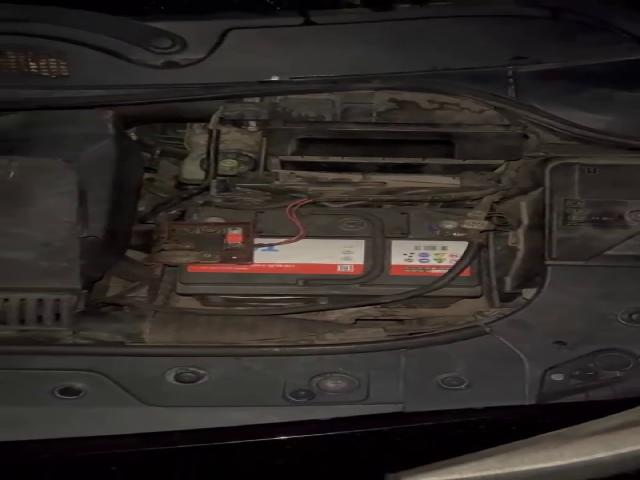accumulator: (151, 204, 490, 308)
fuse_box: (538, 155, 635, 266)
